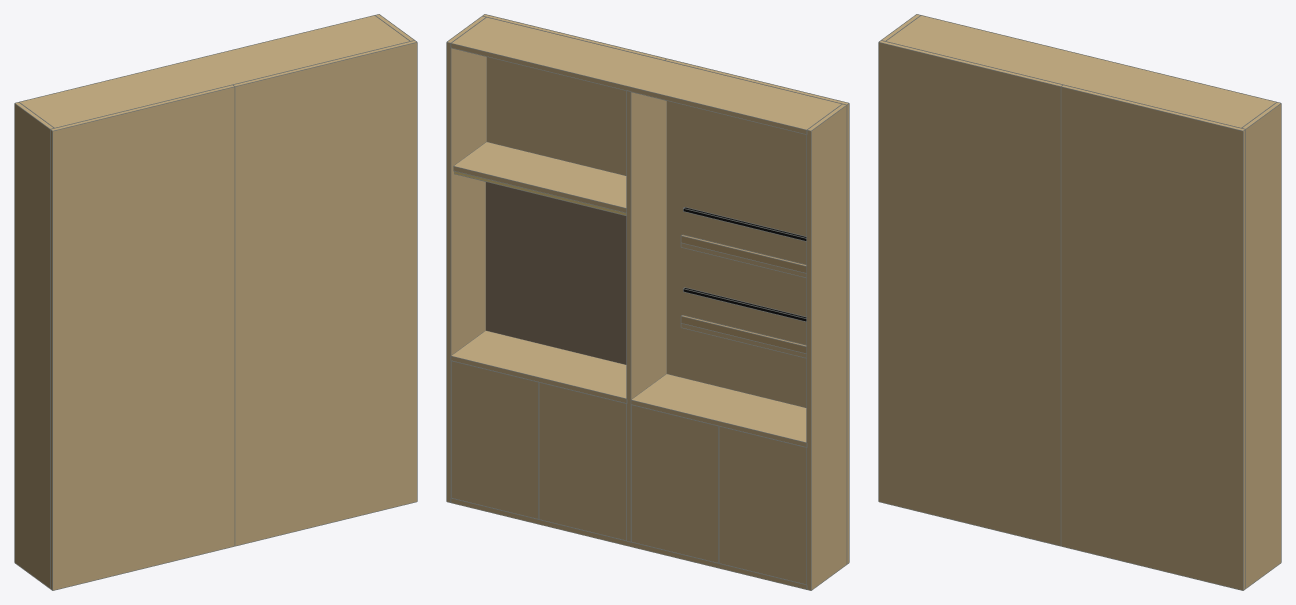
File: modell.glb
3 views of the same model, side by side, from view 1: azimuth 30°, elevation 25°; view 2: azimuth 150°, elevation 25°; view 3: azimuth 330°, elevation 25° (orthographic).
Bounding box in the file's own units: 1664 × 2004 × 303.
